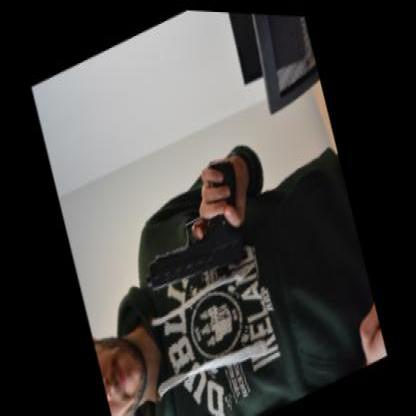pistol: (125, 144, 256, 307)
